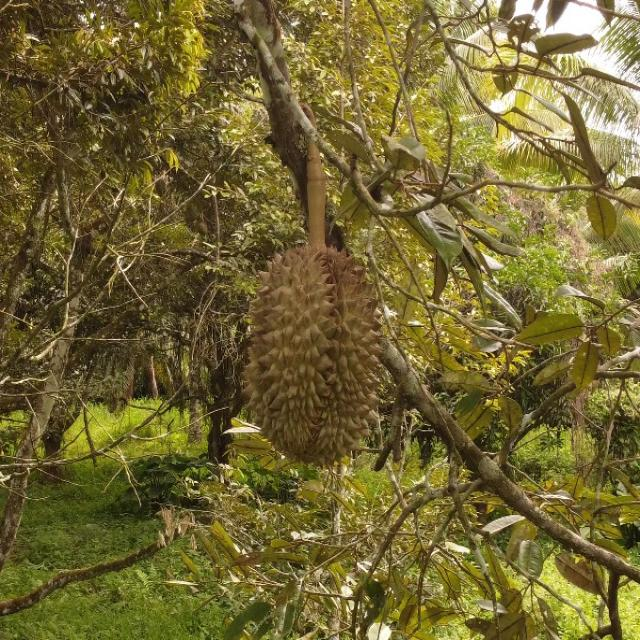mature: (242, 243, 385, 468)
